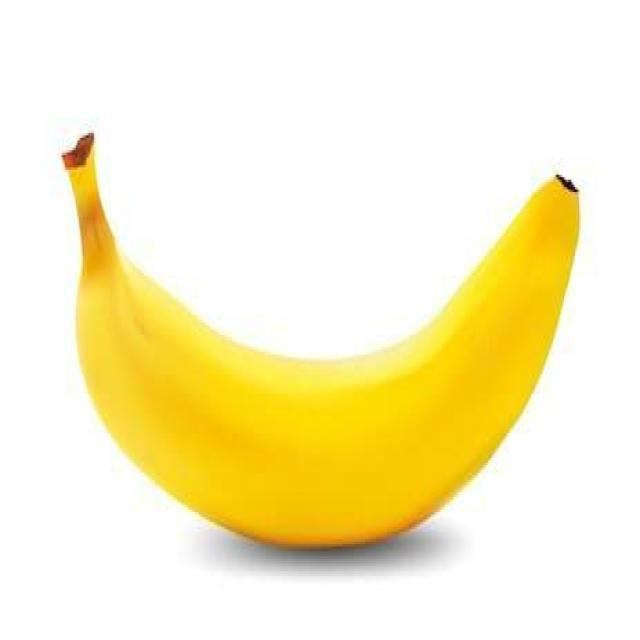banana: (73, 174, 582, 557)
